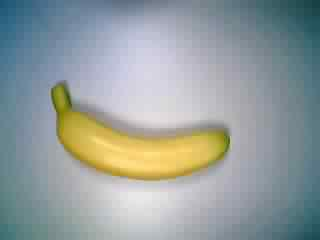banana: (47, 76, 238, 184)
